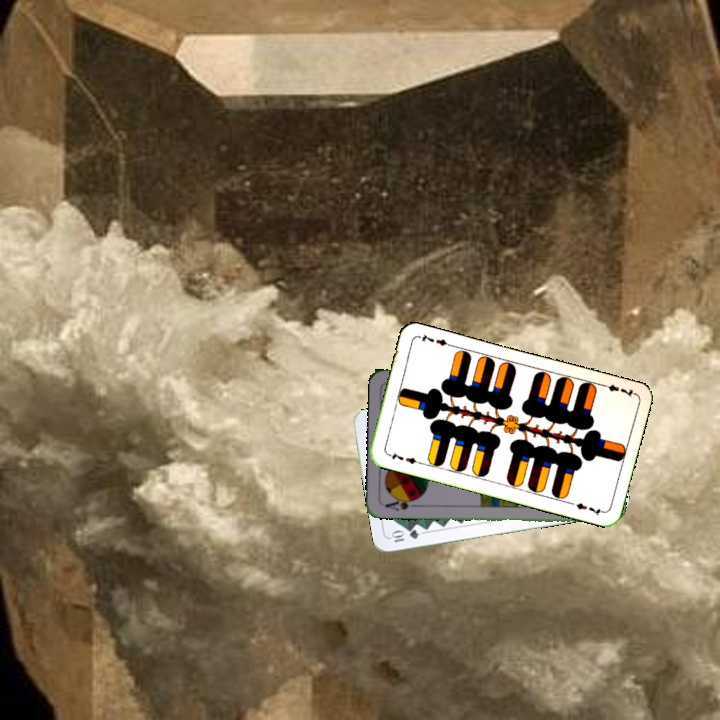E7: (597, 380, 637, 400), (383, 448, 423, 467)
G10: (387, 526, 421, 545)
SA: (381, 494, 421, 513)
